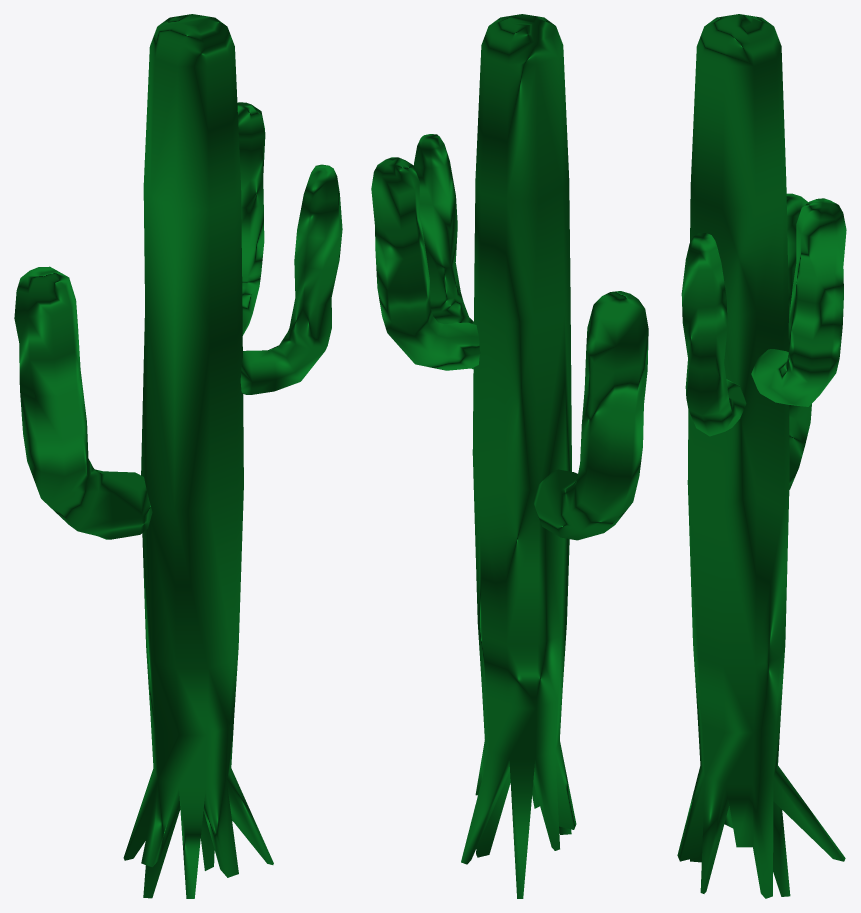
Rendered from SeguaroCactusLarge3_LOD0.obj.
The picture shows the model from 3 angles, left to right: view 1: azimuth 30°, elevation 25°; view 2: azimuth 150°, elevation 25°; view 3: azimuth 270°, elevation 25°; orthographic projection. The views are drawn at different scales.
Visible parts, largest first — view 1: SeguaroCactusLarge3_LOD0; view 2: SeguaroCactusLarge3_LOD0; view 3: SeguaroCactusLarge3_LOD0.
Boxes of the visible parts, x1,y1,x2,y2 form: SeguaroCactusLarge3_LOD0: (14,14,342,898); SeguaroCactusLarge3_LOD0: (371,14,648,898); SeguaroCactusLarge3_LOD0: (677,14,846,898).
Bounding box in the file's own units: 204 × 622 × 108.
